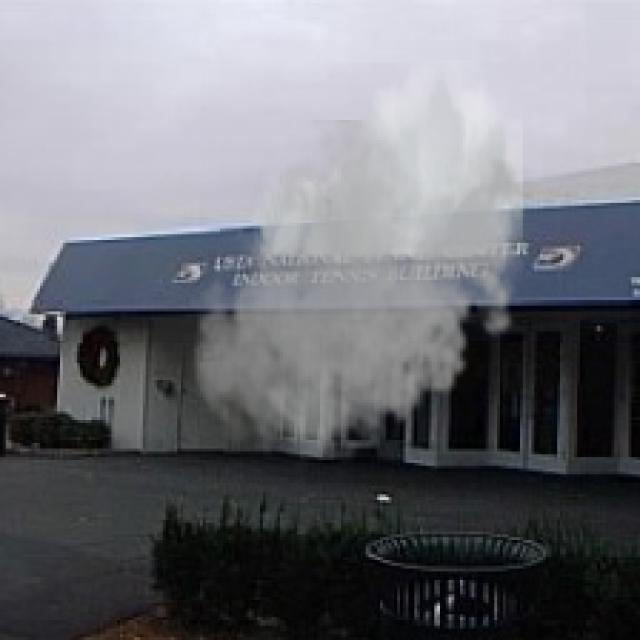smoke: (186, 60, 537, 474)
